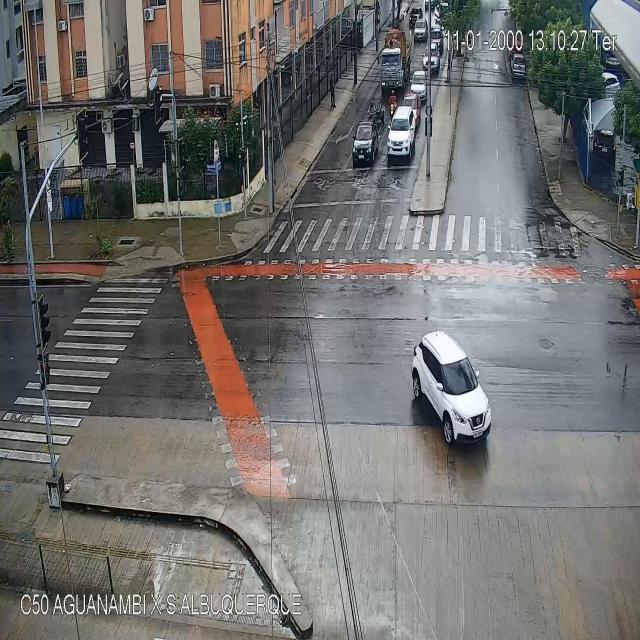Car: (413, 331, 495, 443), (378, 32, 411, 87), (387, 107, 416, 157), (352, 121, 378, 164), (410, 68, 429, 100), (421, 44, 440, 72), (403, 94, 419, 126), (429, 27, 444, 50), (512, 53, 525, 76), (414, 19, 428, 40), (410, 9, 422, 24)
Motorcycle: (366, 98, 376, 121), (389, 89, 396, 118)
